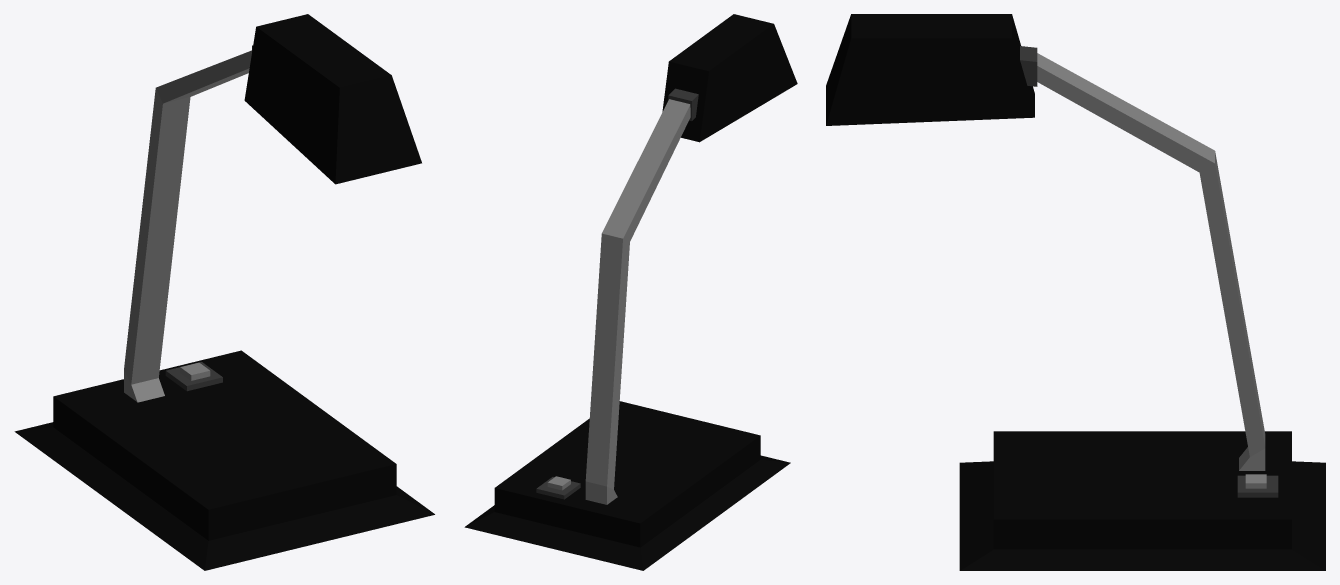
Rendered from BlackLamp.fbx.
The picture shows the model from 3 angles, left to right: view 1: azimuth 30°, elevation 25°; view 2: azimuth 150°, elevation 25°; view 3: azimuth 270°, elevation 25°; orthographic projection. The views are drawn at different scales.
Visible parts, largest first — view 1: Cube.010, Cube.017, Cube.014; view 2: Cube.010, Cube.017, Cube.014; view 3: Cube.010, Cube.017, Cube.014.
Part boxes in pixels (x1=…): Cube.010: x1=14, y1=14, x2=434, y2=570; Cube.017: x1=124, y1=50, x2=251, y2=402; Cube.014: x1=165, y1=45, x2=252, y2=391; Cube.010: x1=464, y1=14, x2=797, y2=570; Cube.017: x1=547, y1=99, x2=690, y2=504; Cube.014: x1=536, y1=88, x2=698, y2=499; Cube.010: x1=826, y1=14, x2=1325, y2=570; Cube.017: x1=1037, y1=53, x2=1266, y2=488; Cube.014: x1=1020, y1=46, x2=1278, y2=497.
Size of the model in its own units: 90.77 by 190 by 177.
